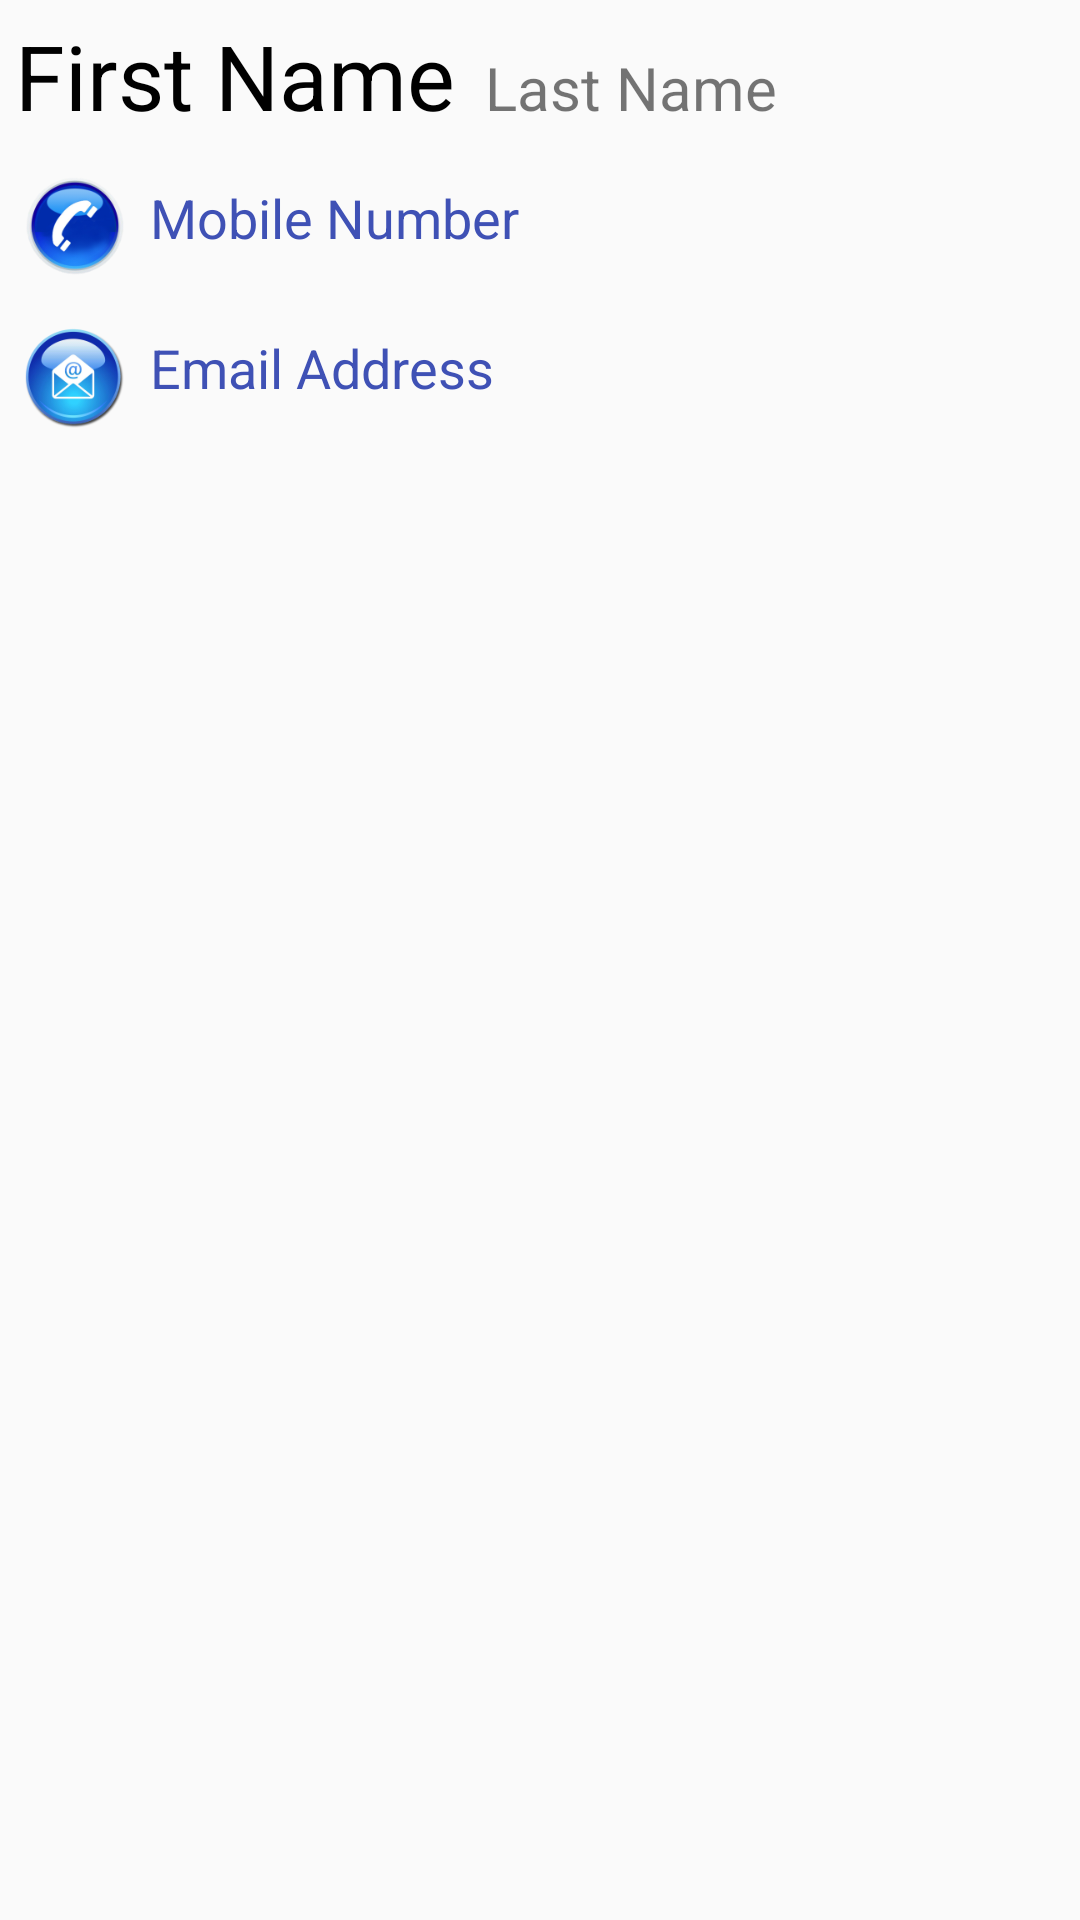

Where to tap for icons on this 1080px x 1920px app screen, as (x=x, y=y):
phone: (x=75, y=226)
